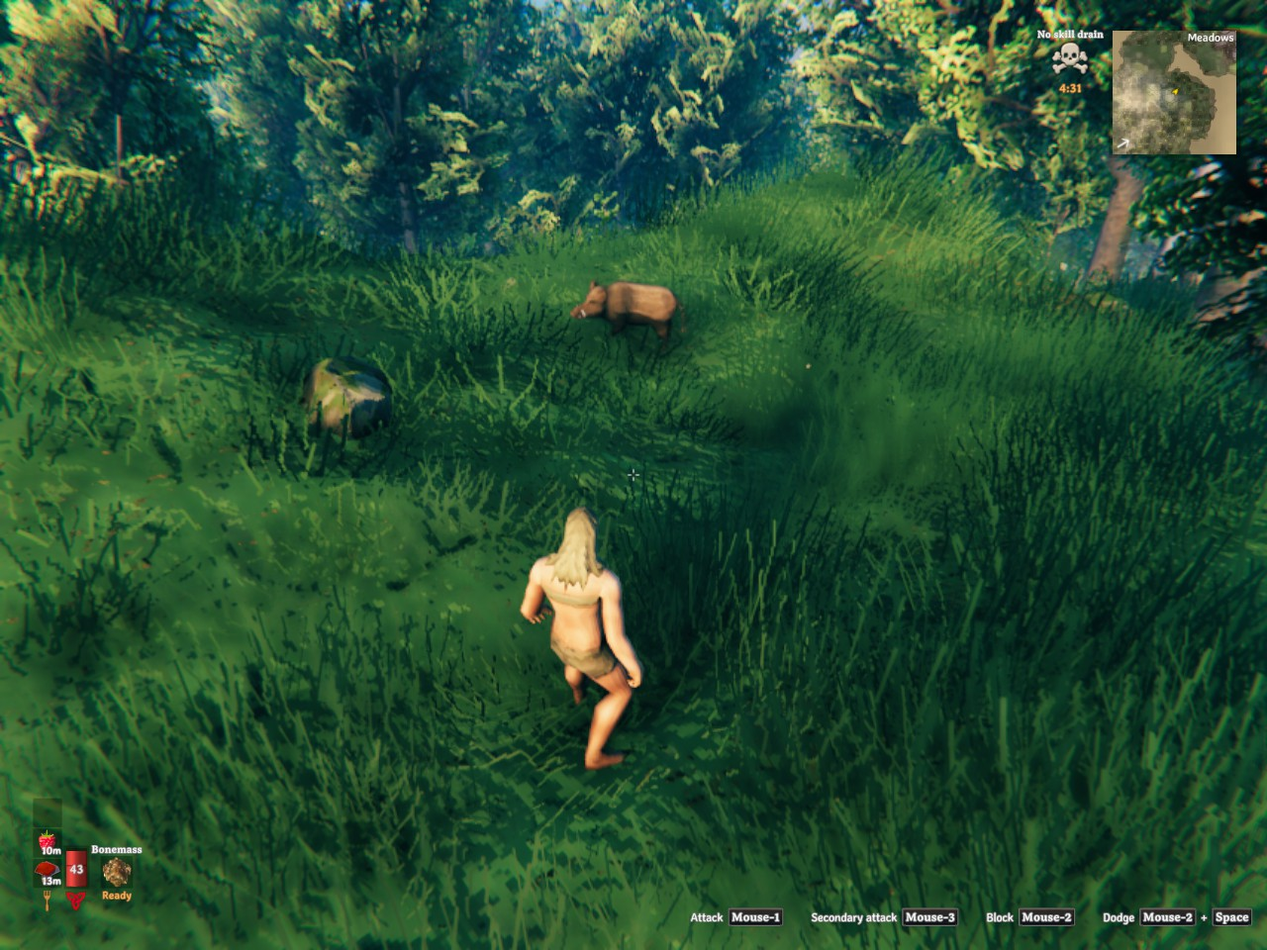Boar: (571, 281, 678, 348)
